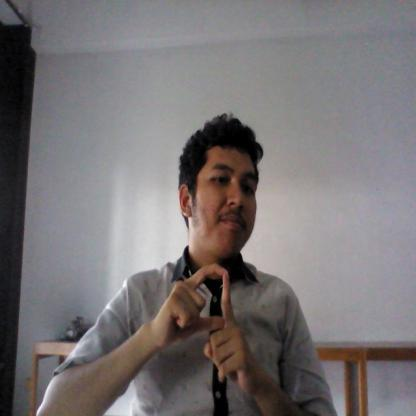D: (150, 257, 258, 392)
